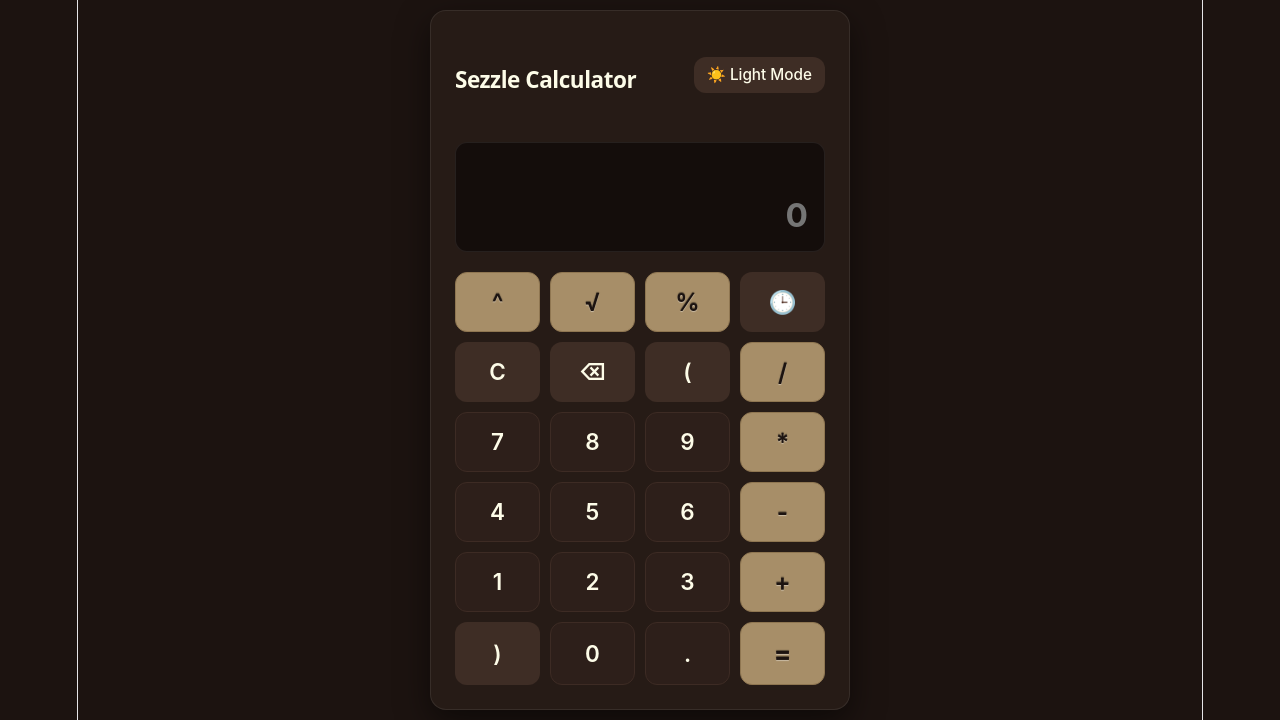
it: Calculator Result & Backend Error Modal › displays calculated result when backend responds with 200
This screenshot has width=1280, height=720.
Type "2+3*4" into the field named "calculator input" at [640, 214], box x1=472 y1=194 x2=808 y2=234
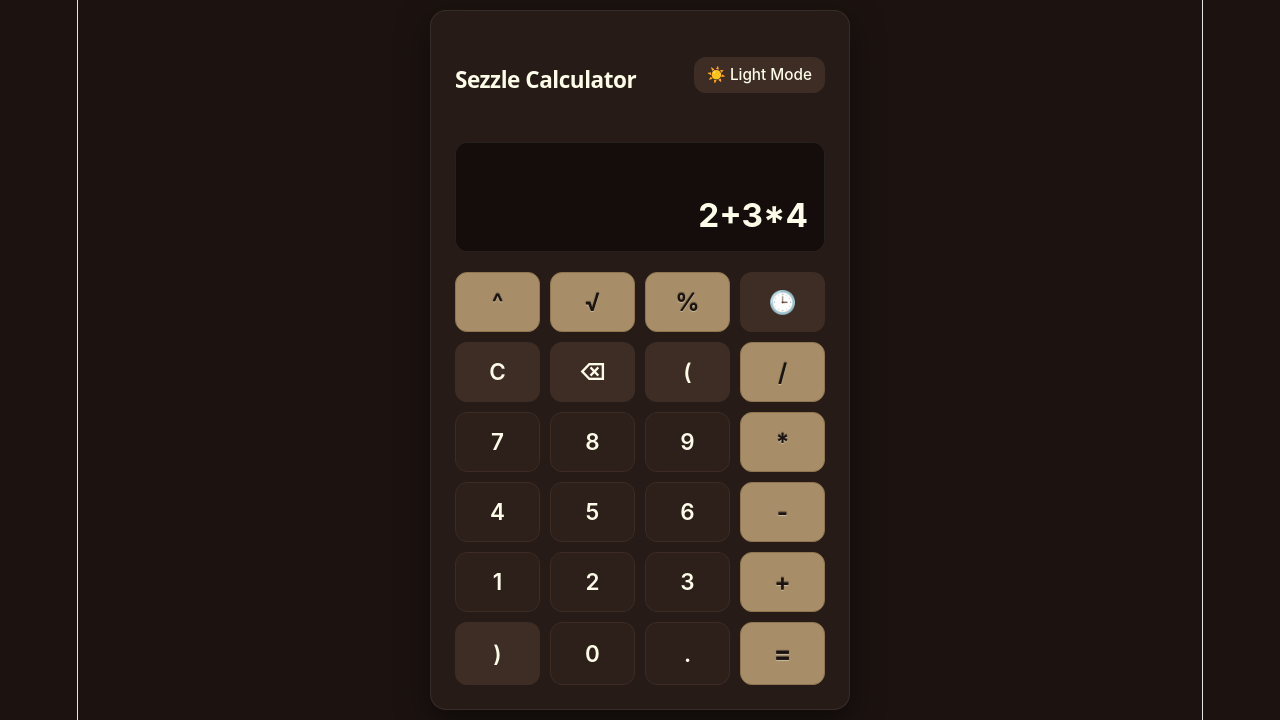
Click the button named "calculate result" at [782, 653], box x1=740 y1=622 x2=825 y2=684
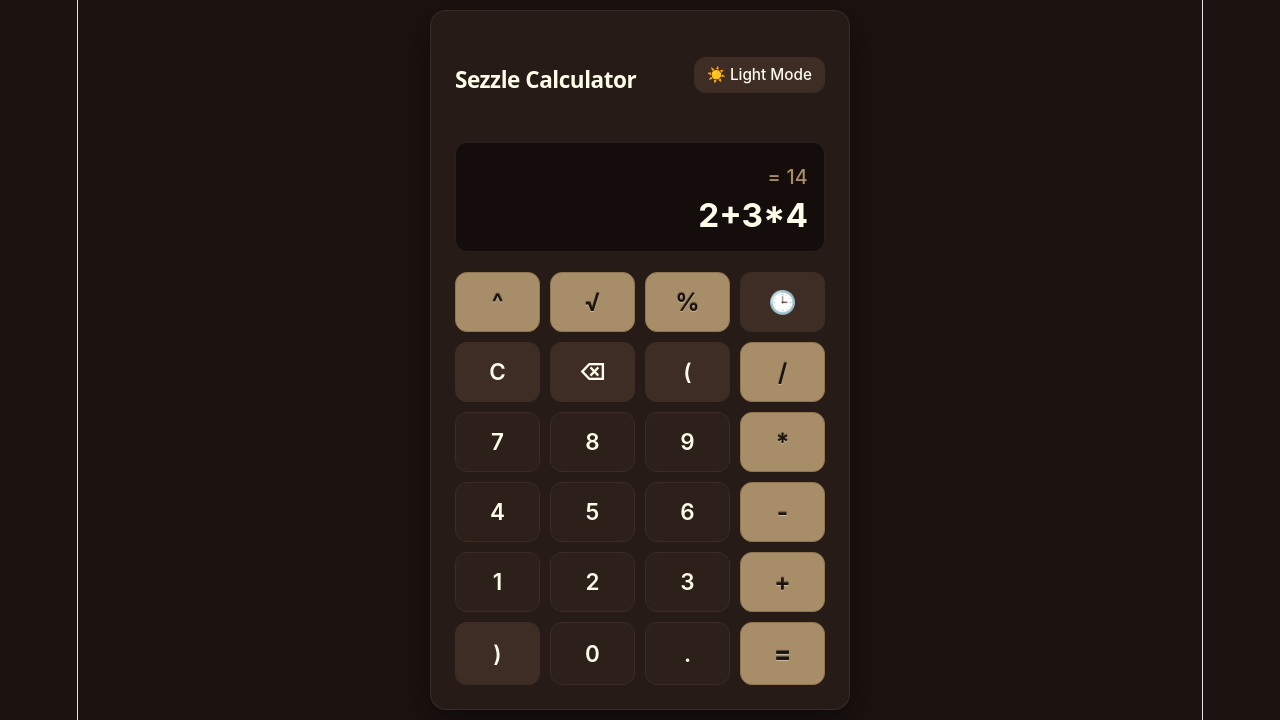
Result: the text "= 14" is shown at x1=768 y1=166 x2=808 y2=190
